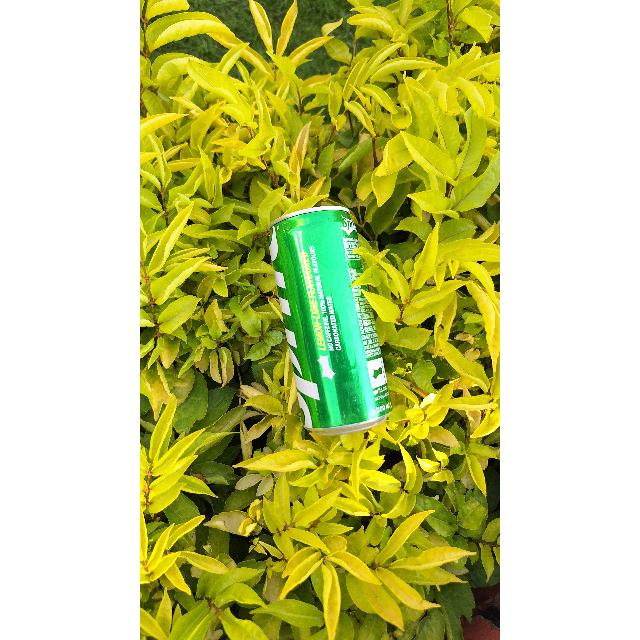Sprite: (269, 204, 387, 428)
